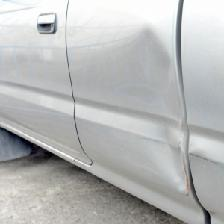door_dent: (73, 18, 224, 194)
